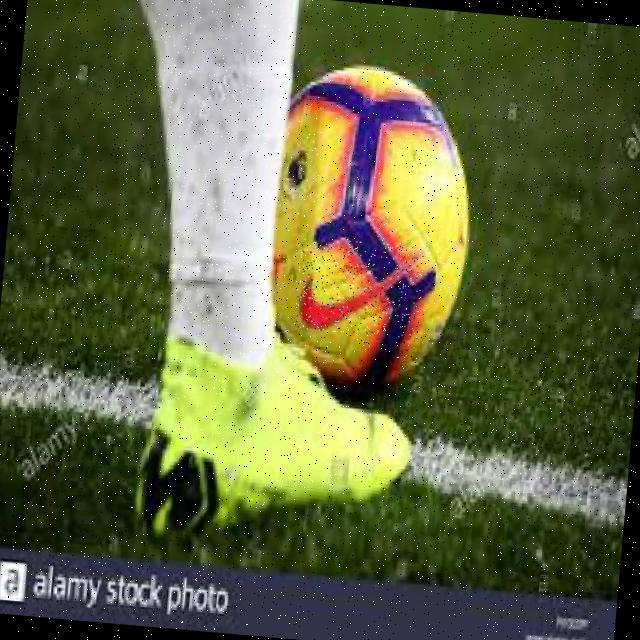Nike: (293, 237, 425, 339)
